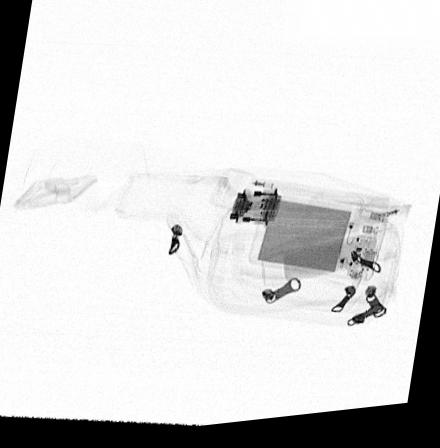Powerbank: (247, 199, 390, 291)
